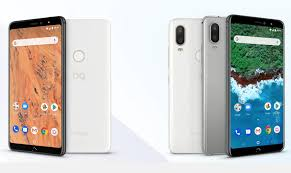vsmart: (225, 9, 285, 165)
